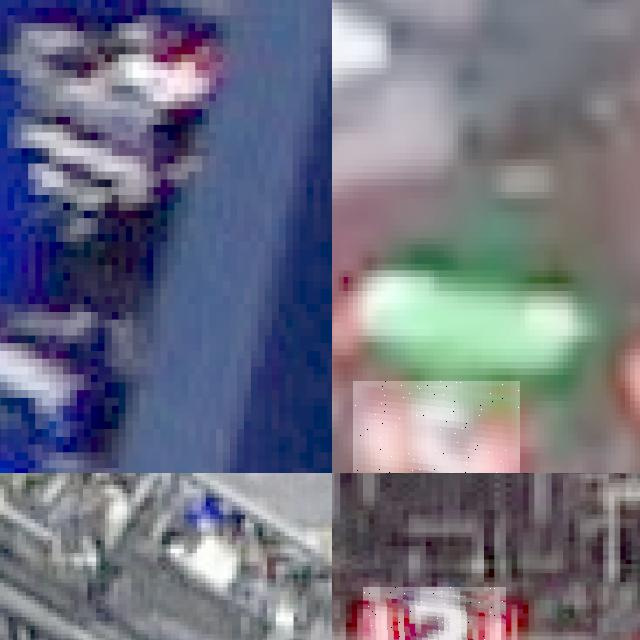R2: (363, 587, 506, 640)
R5: (353, 381, 520, 473)
